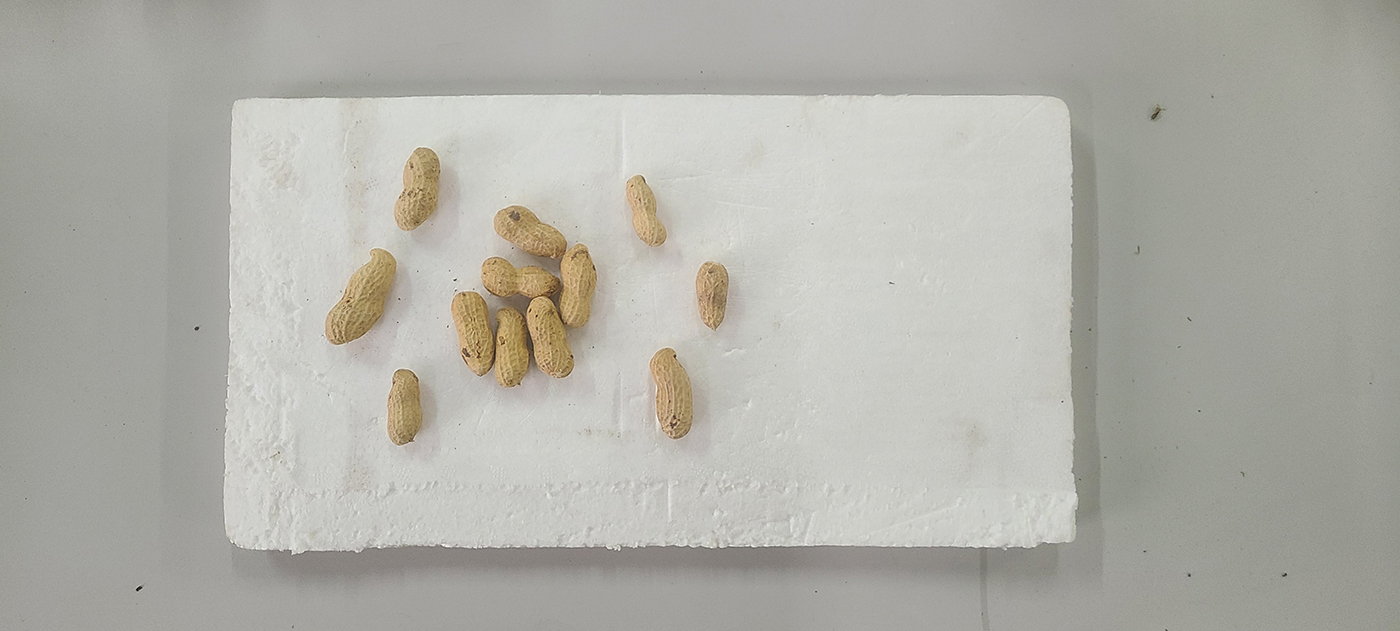h: (324, 247, 395, 344), (393, 147, 442, 231), (651, 347, 694, 439), (493, 206, 567, 258), (526, 297, 574, 377), (451, 290, 494, 375), (482, 256, 562, 298), (558, 243, 596, 325), (625, 175, 667, 245), (494, 307, 530, 387), (387, 368, 422, 445), (695, 260, 729, 330)
